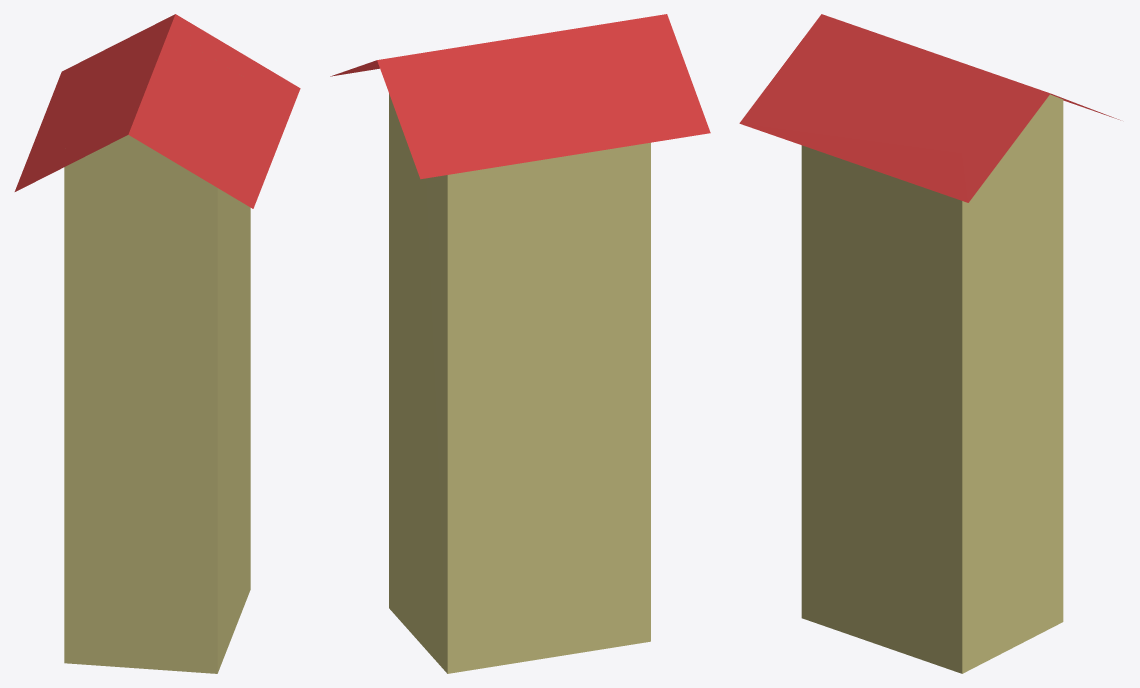
3 views of the same model, side by side, from view 1: azimuth 30°, elevation 25°; view 2: azimuth 150°, elevation 25°; view 3: azimuth 270°, elevation 25° (orthographic). The views are drawn at different scales.
Size of the model in its own units: 4.28 by 4.35 by 7.01.
